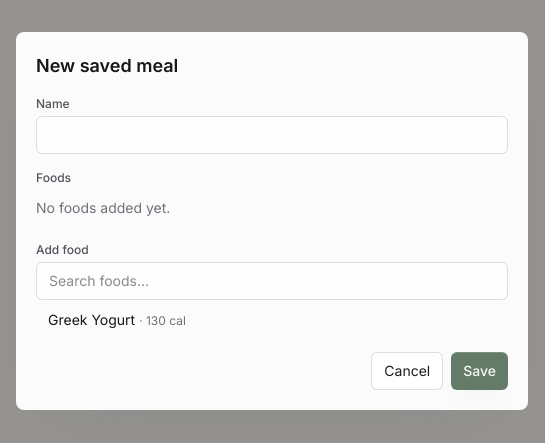
Test: numeric input regressions › steps saved-meal servings by one without invalidating integers
Click the button "Greek Yogurt · 130 cal" at (92, 320), box [36,304,508,336]
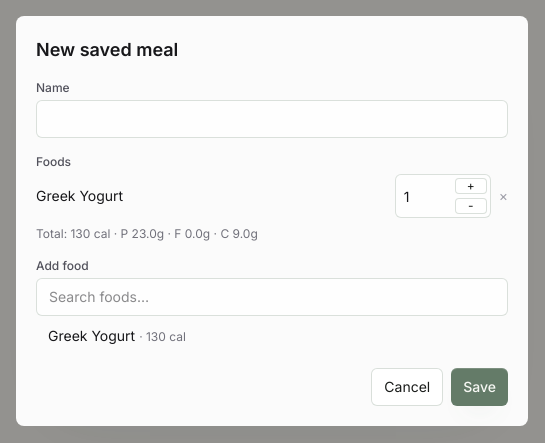
Expected: the element named "servings" is shown, [395,174,491,218]
Click the button named "Increase" at (471, 186), box [455,178,487,194]
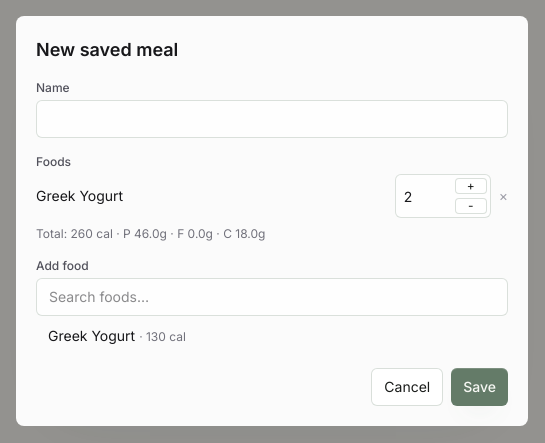
Expected: the field named "servings" holds "2", [395,174,491,218]
